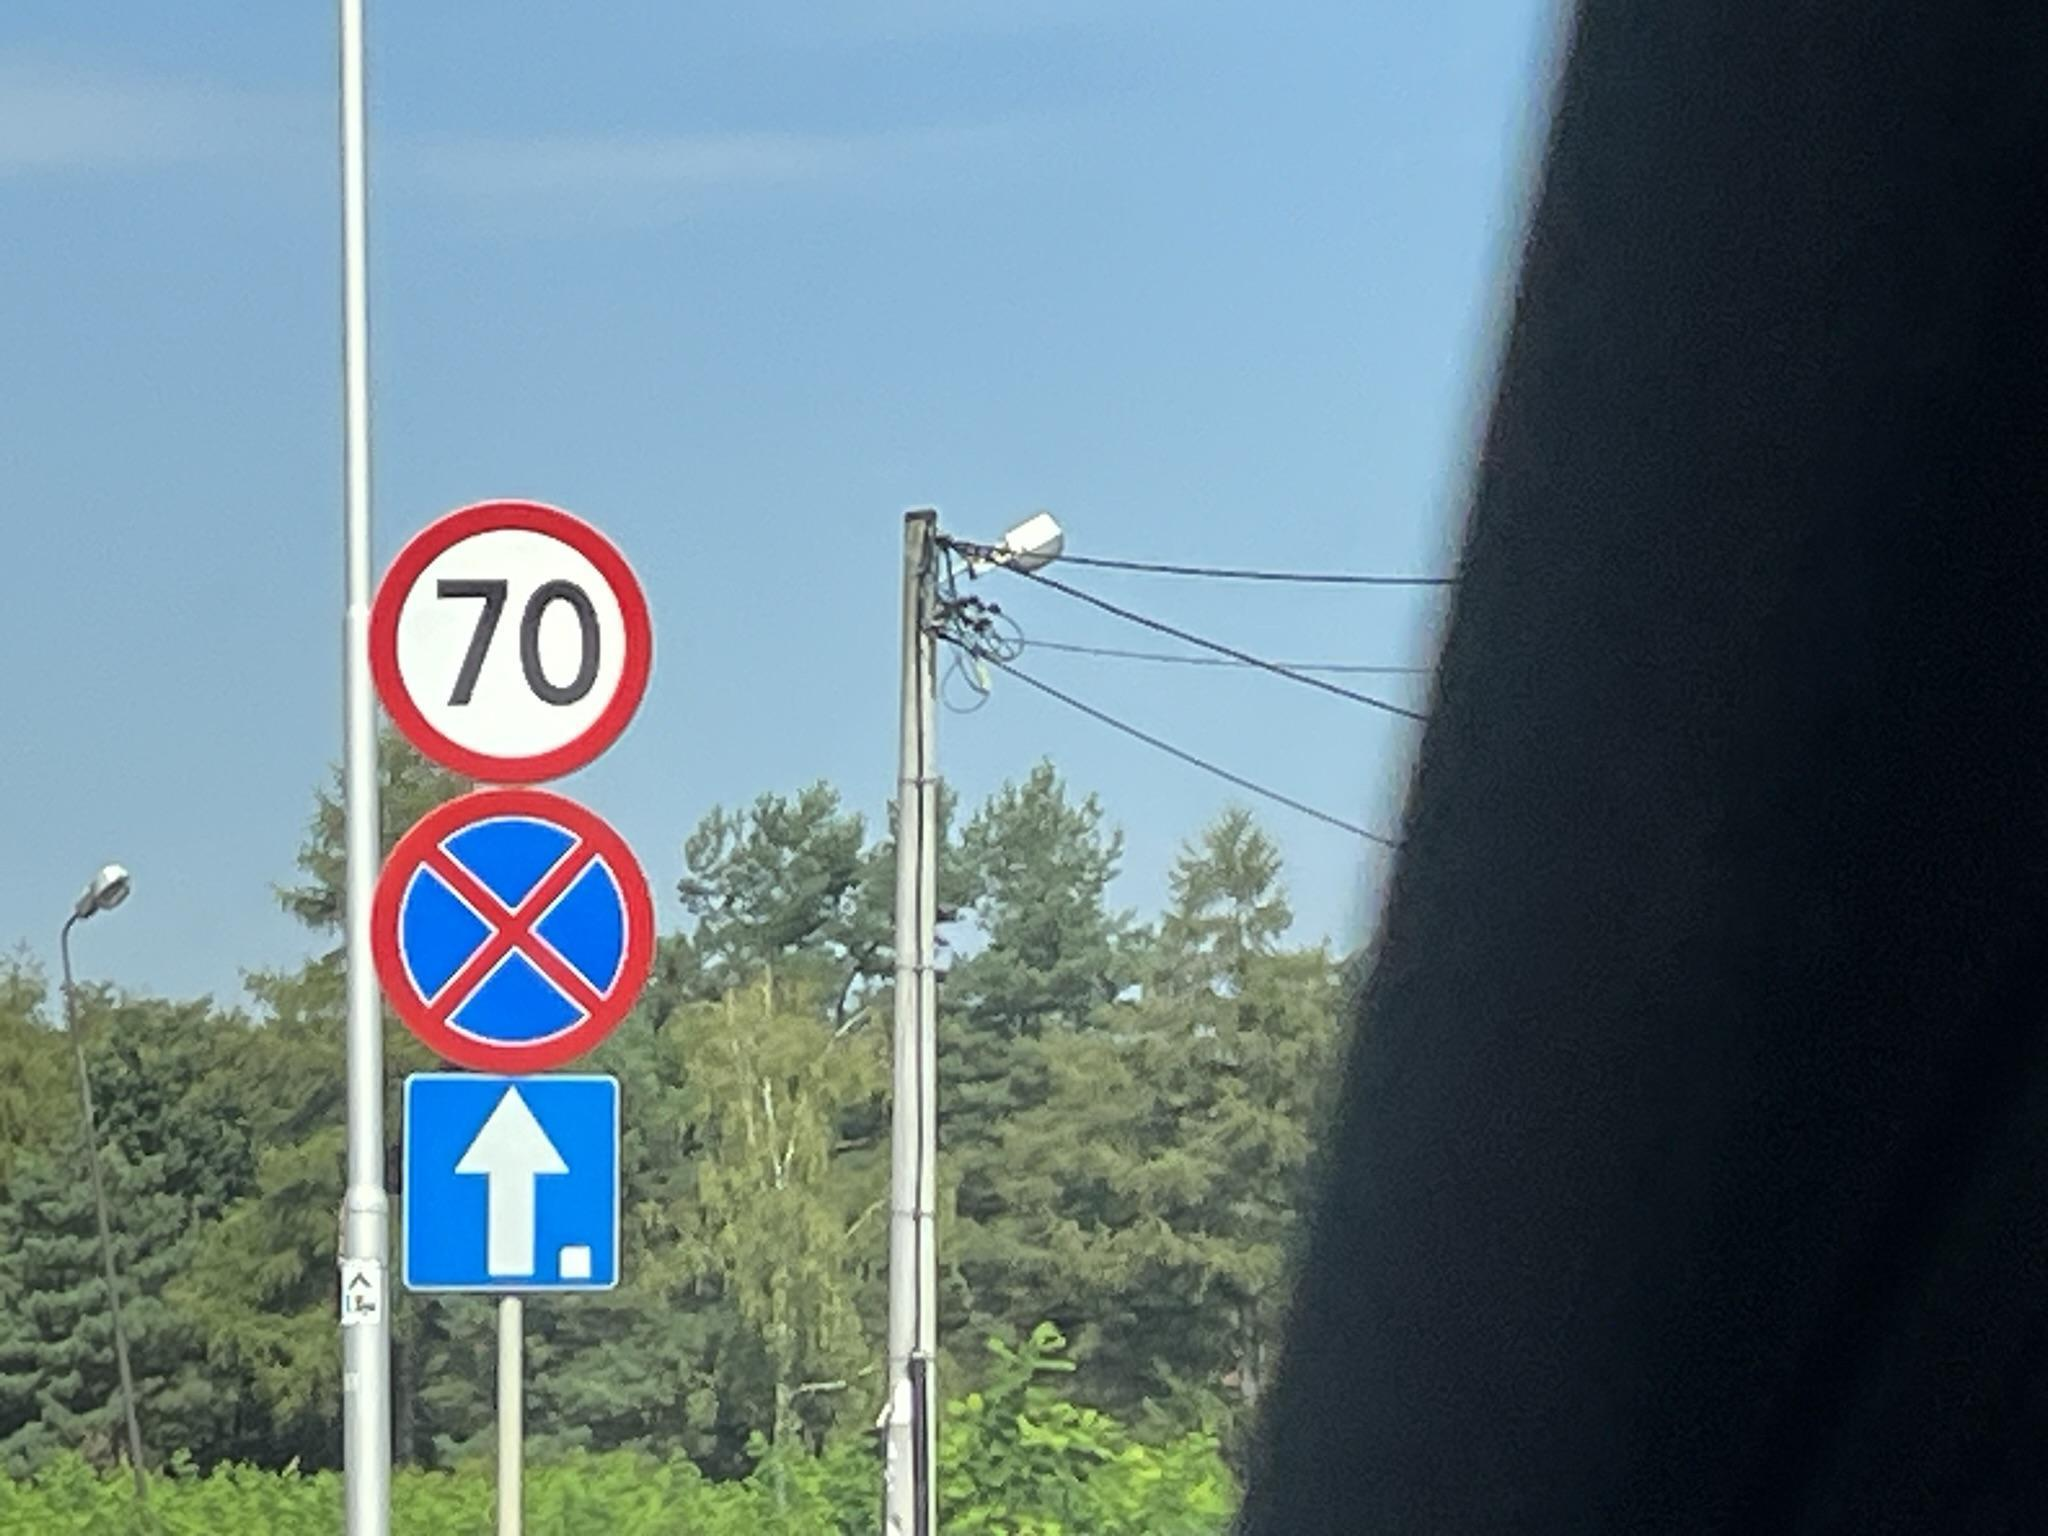information: (402, 1071, 618, 1292)
prohibitory: (366, 495, 658, 786), (366, 783, 655, 1075)
